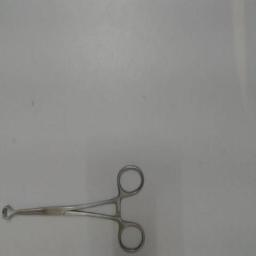Babcock Tissue Forceps: (0, 162, 148, 254)
